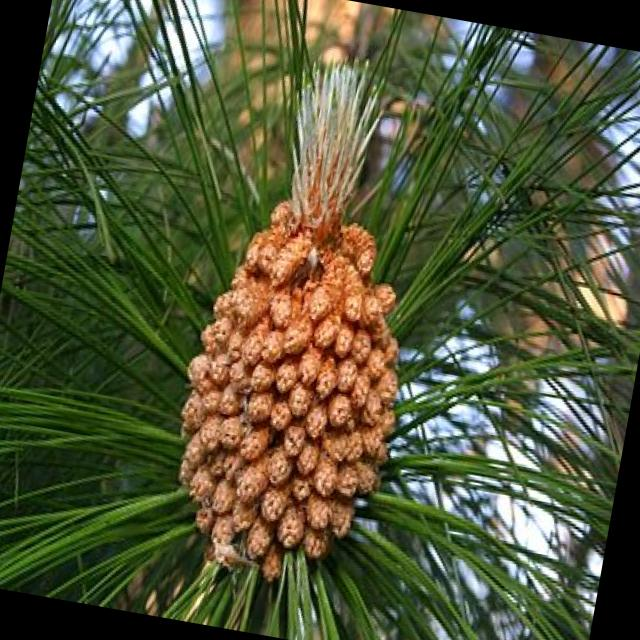Pine: (0, 0, 640, 640), (120, 96, 577, 640)
